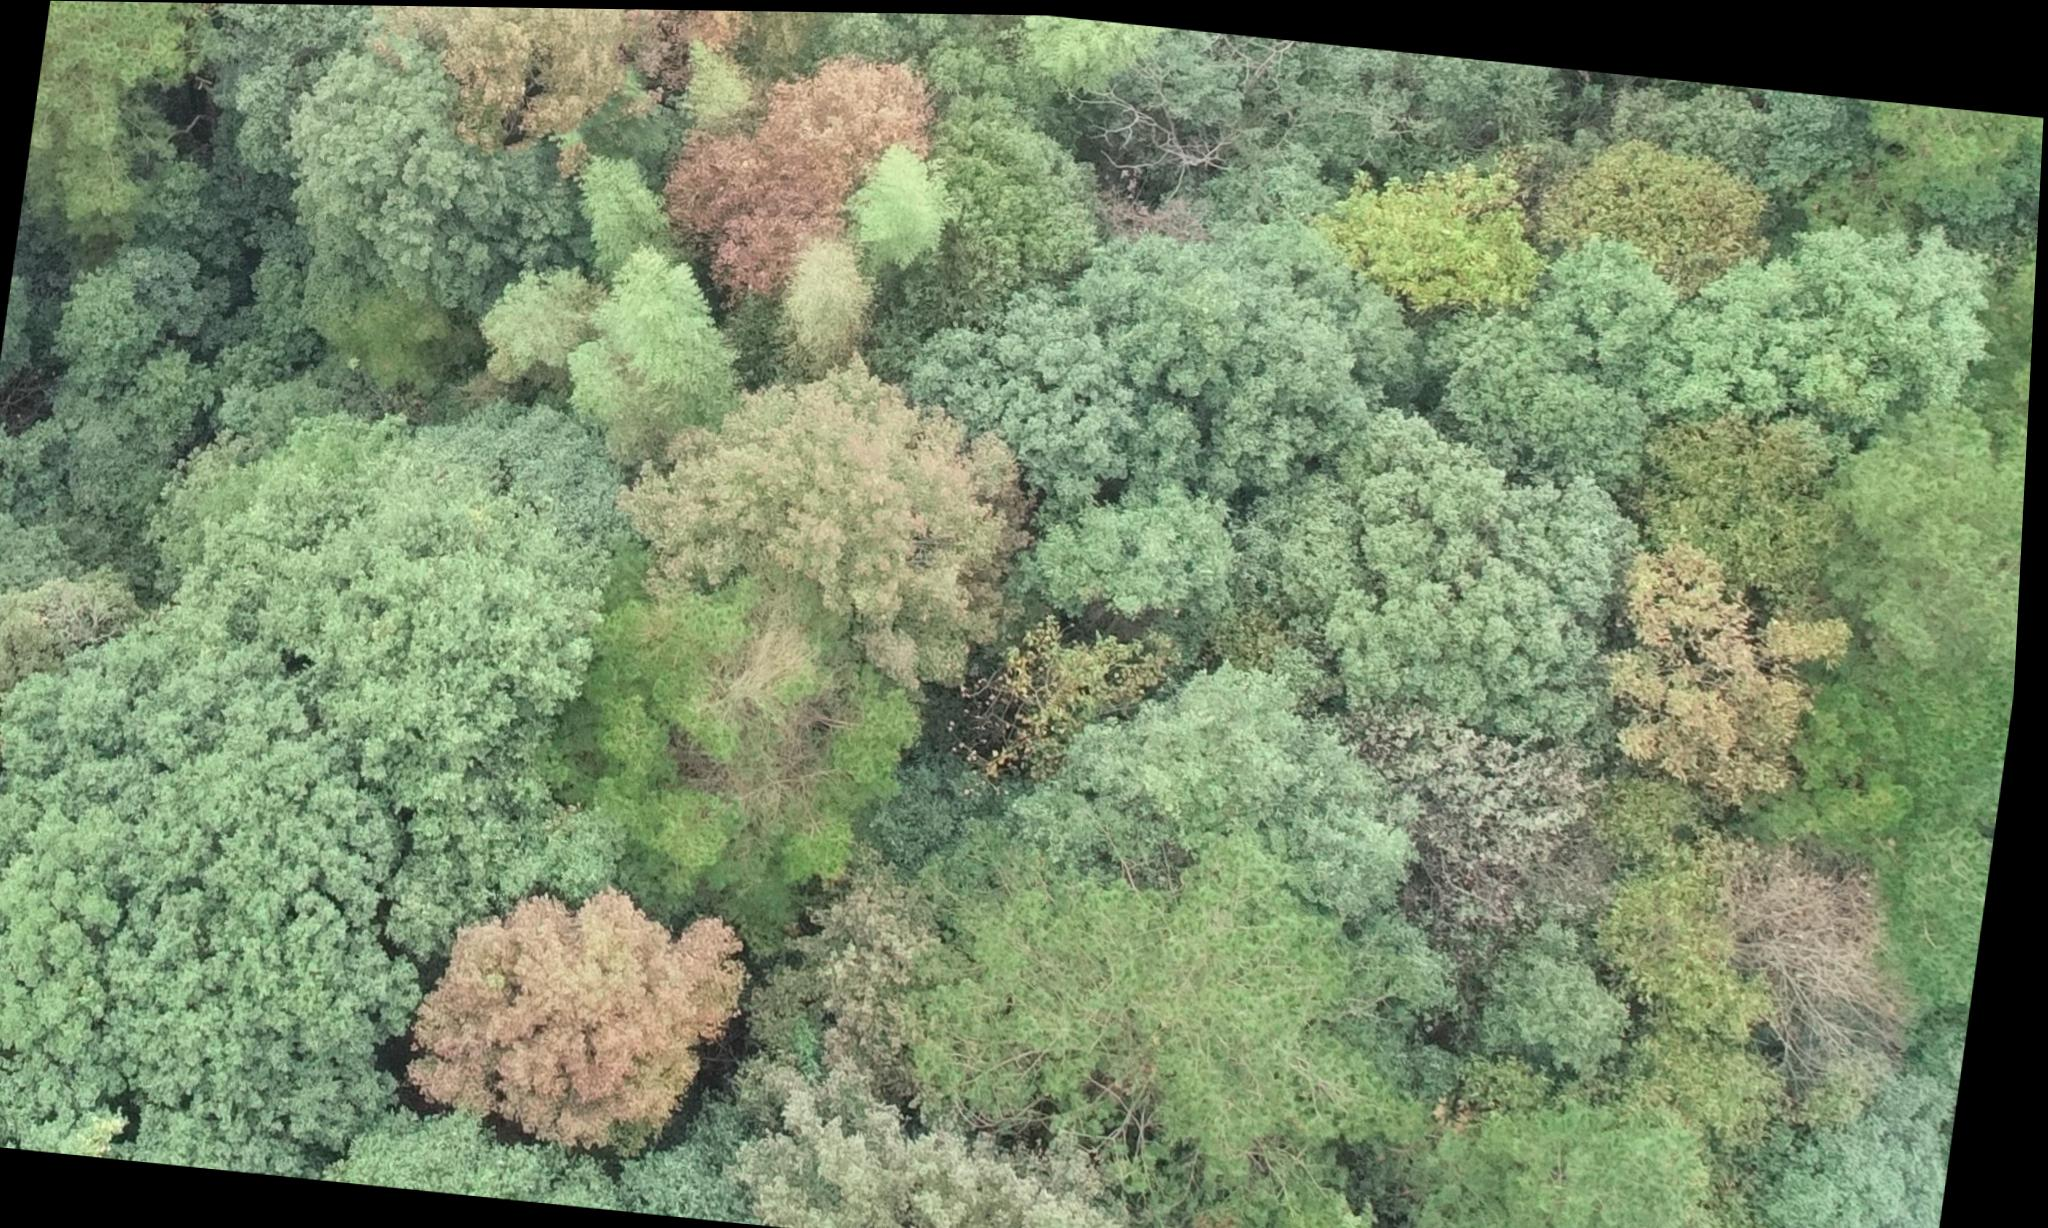dead: (1602, 814, 1950, 1114)
heavy: (339, 845, 788, 1213), (640, 19, 968, 325)
